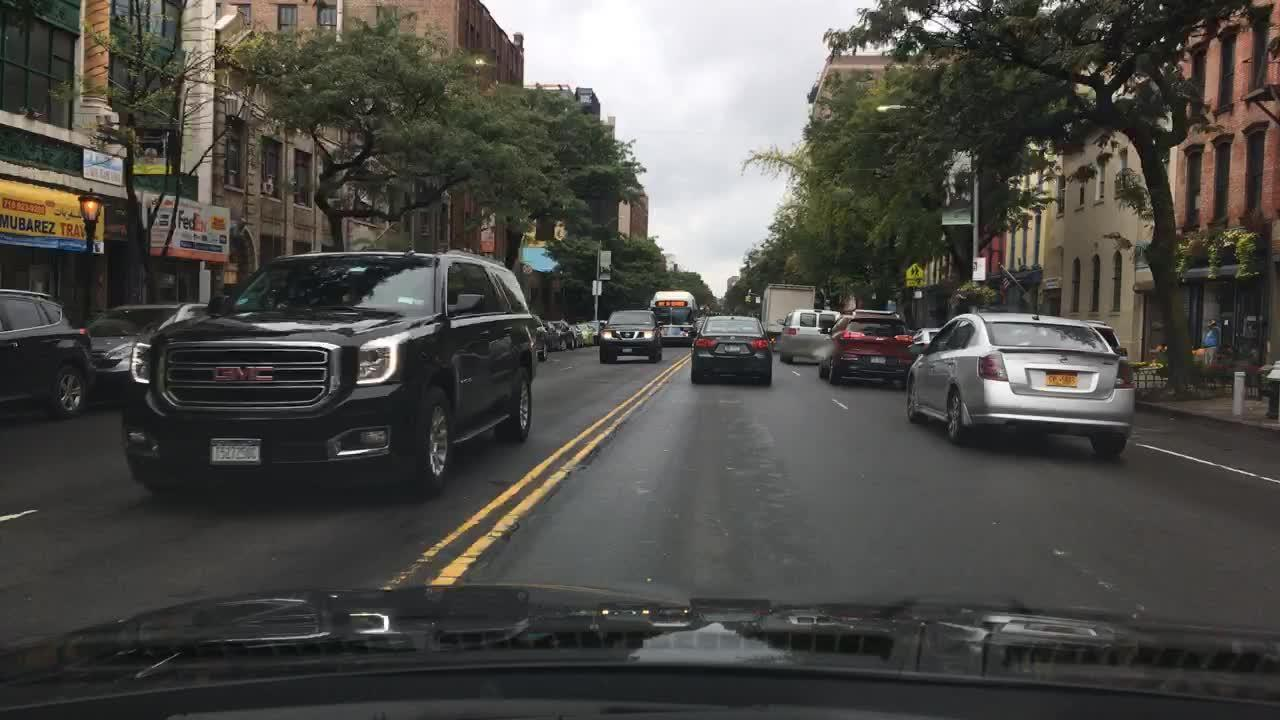GMC: (210, 362, 275, 388)
Nissan: (1057, 354, 1075, 366), (623, 332, 631, 338)
